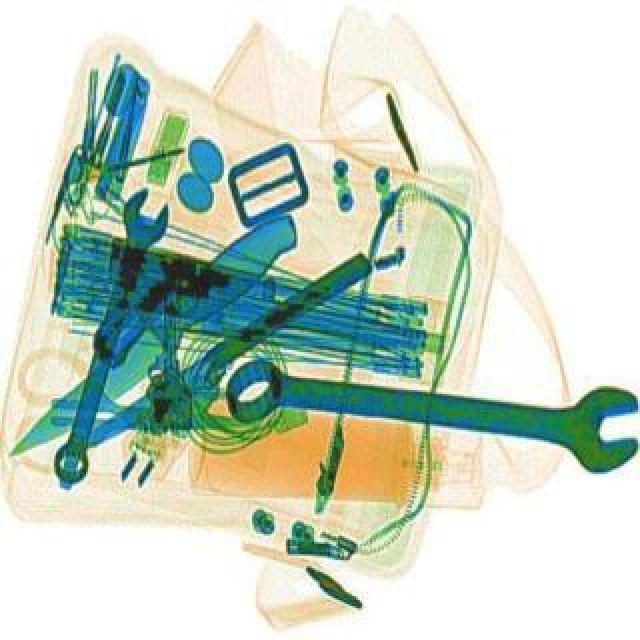gun: (82, 236, 278, 388)
knife: (2, 200, 310, 464), (50, 248, 376, 466), (46, 380, 232, 446)
scissors: (222, 340, 636, 474), (40, 182, 174, 486)
